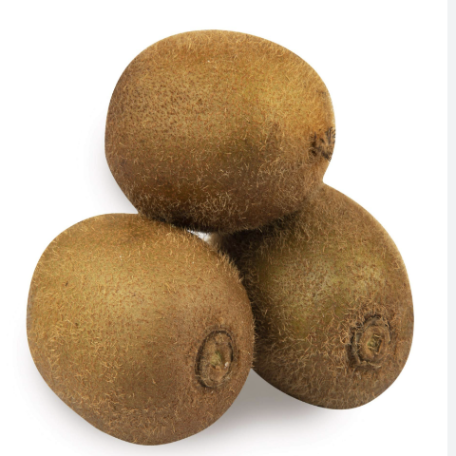kiwi: (13, 196, 277, 453), (82, 18, 339, 238), (199, 184, 405, 436)
